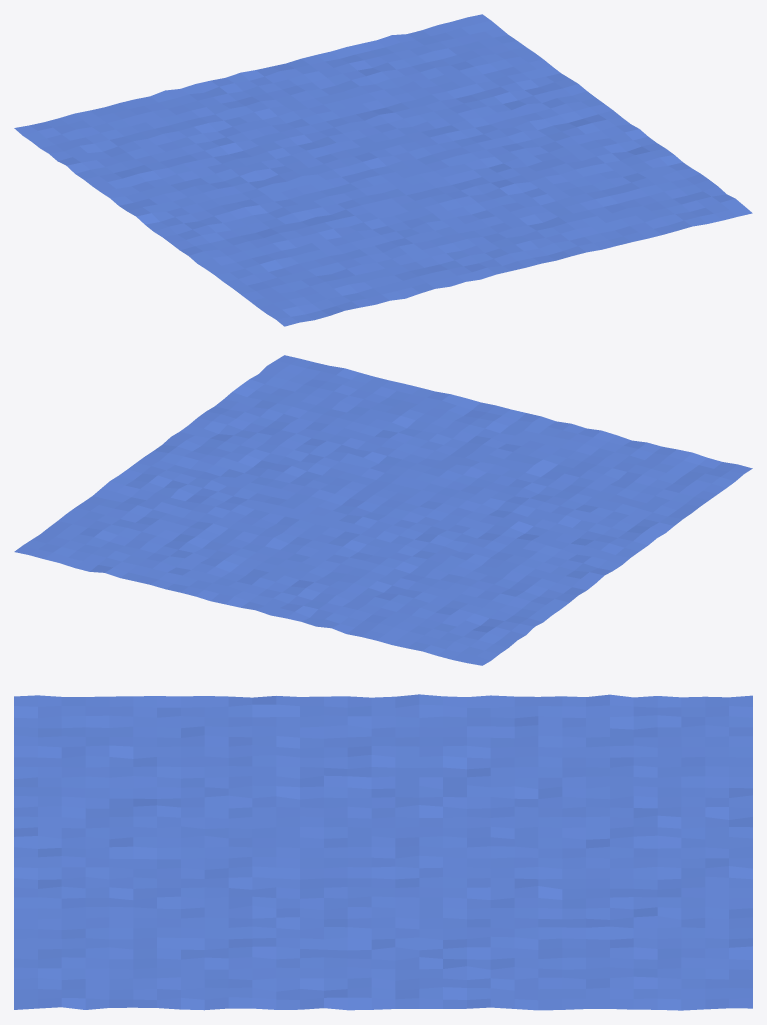
File: water.fbx
The picture shows the model from 3 angles, top to bottom: view 1: azimuth 30°, elevation 25°; view 2: azimuth 150°, elevation 25°; view 3: azimuth 270°, elevation 25°; orthographic projection. The views are drawn at different scales.
Visible parts, largest first — view 1: water; view 2: water; view 3: water.
Boxes of the visible parts, x1,y1,x2,y2 form: water: (14,14,752,326); water: (14,355,752,665); water: (14,694,752,1010).
Size of the model in its own units: 13200 by 109 by 13200.
